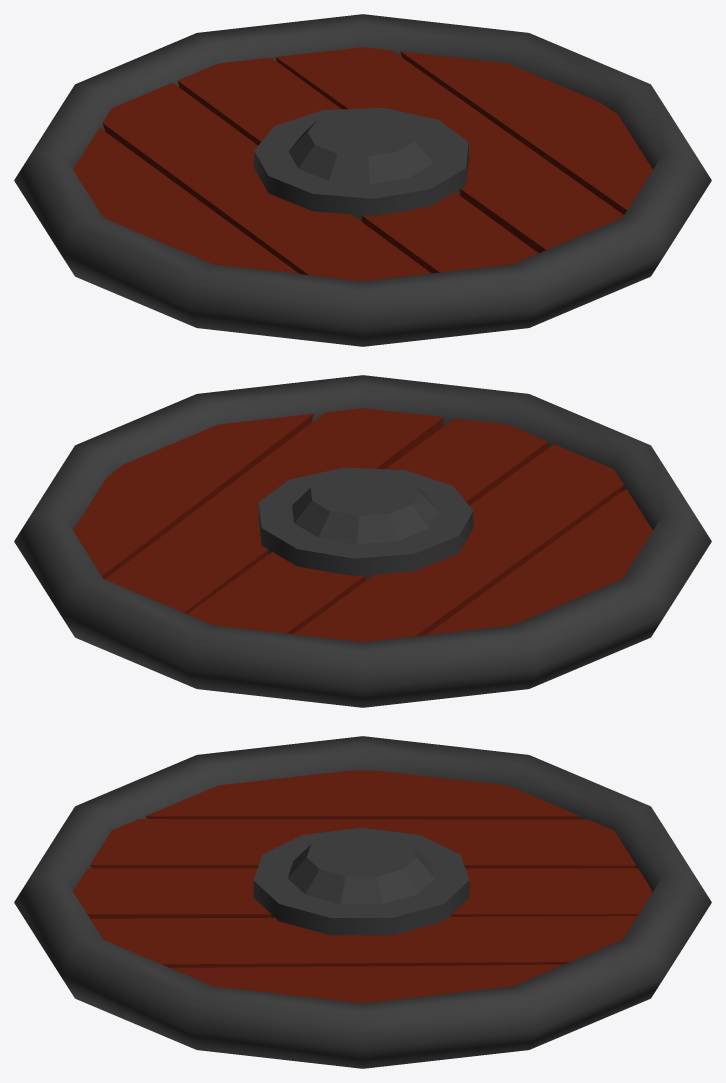
Rendered from Shield_003.fbx.
3 renders of one model, top to bottom at view 1: azimuth 30°, elevation 25°; view 2: azimuth 150°, elevation 25°; view 3: azimuth 270°, elevation 25°, orthographic.
Parts seen in each view (by area): view 1: Shield_003; view 2: Shield_003; view 3: Shield_003.
Part boxes in pixels (x1,y1,x2,y2): Shield_003: (14,14,711,346); Shield_003: (14,375,711,707); Shield_003: (14,736,711,1068).
Size of the model in its own units: 0.6361 by 0.1406 by 0.6361.
